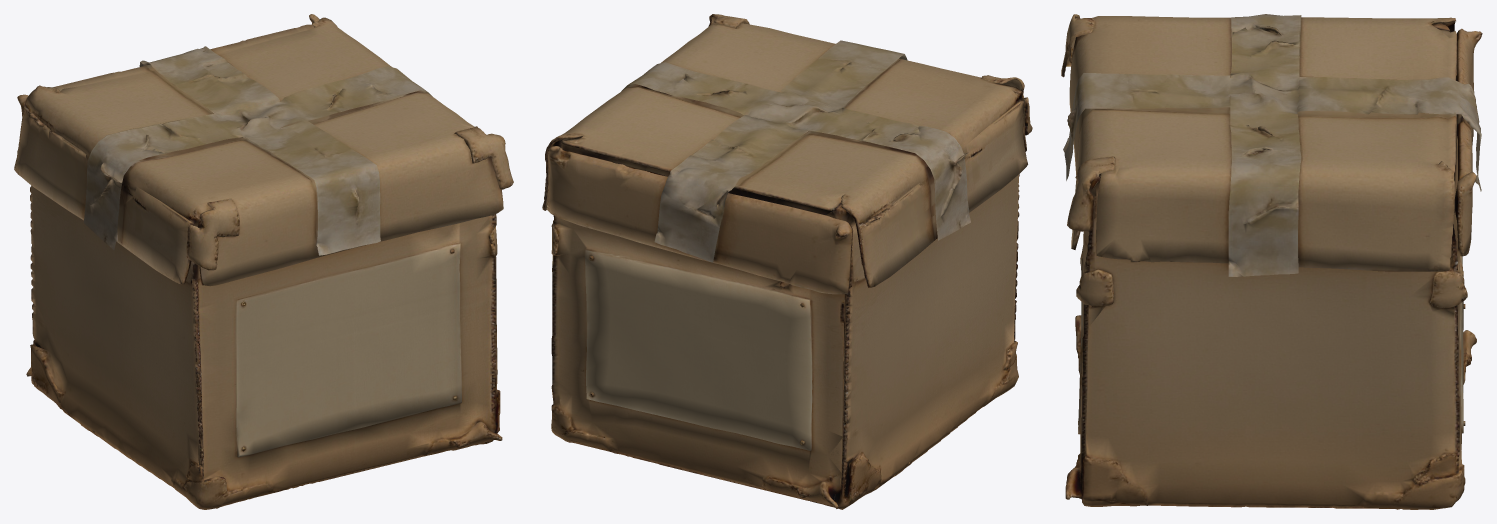
The model's file is prop-cardboard-box-v01.glb.
3 views of the same model, side by side, from view 1: azimuth 30°, elevation 25°; view 2: azimuth 150°, elevation 25°; view 3: azimuth 270°, elevation 25° (orthographic). The views are drawn at different scales.
Visible parts, largest first — view 1: tripo_node_b5af638e-0a11-4701-8d8f-33a08a2d25c9; view 2: tripo_node_b5af638e-0a11-4701-8d8f-33a08a2d25c9; view 3: tripo_node_b5af638e-0a11-4701-8d8f-33a08a2d25c9.
Boxes of the visible parts, left/top/right/bottom form: tripo_node_b5af638e-0a11-4701-8d8f-33a08a2d25c9: left=14, top=14, right=513, bottom=509; tripo_node_b5af638e-0a11-4701-8d8f-33a08a2d25c9: left=542, top=14, right=1032, bottom=509; tripo_node_b5af638e-0a11-4701-8d8f-33a08a2d25c9: left=1061, top=14, right=1482, bottom=509.
Bounding box in the file's own units: 0.4047 × 0.3635 × 0.4047.
Materials: 1 (1 with a texture image).
